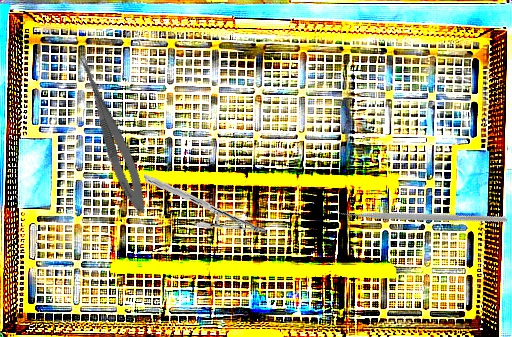Chopper: (331, 130, 508, 293)
Micro Scissor: (68, 50, 154, 218)
Needle Holder: (144, 164, 266, 245)
